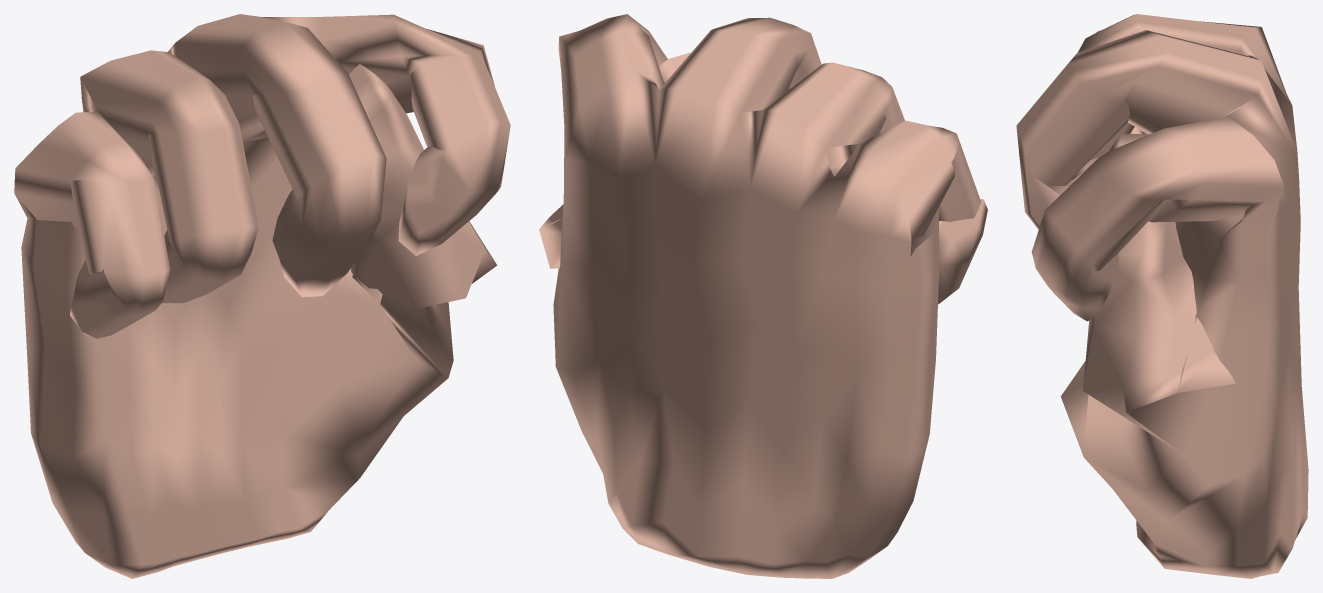
The model's file is MAO_FIGA.obj.
3 renders of one model, left to right at view 1: azimuth 30°, elevation 25°; view 2: azimuth 150°, elevation 25°; view 3: azimuth 270°, elevation 25°, orthographic. The views are drawn at different scales.
Visible parts, largest first — view 1: mao_dir:mao_dir; view 2: mao_dir:mao_dir; view 3: mao_dir:mao_dir.
Boxes of the visible parts, left/top/right/bottom form: mao_dir:mao_dir: left=14, top=14, right=510, bottom=578; mao_dir:mao_dir: left=539, top=14, right=987, bottom=578; mao_dir:mao_dir: left=1016, top=14, right=1308, bottom=578.
Size of the model in its own units: 136 by 156 by 81.27.
